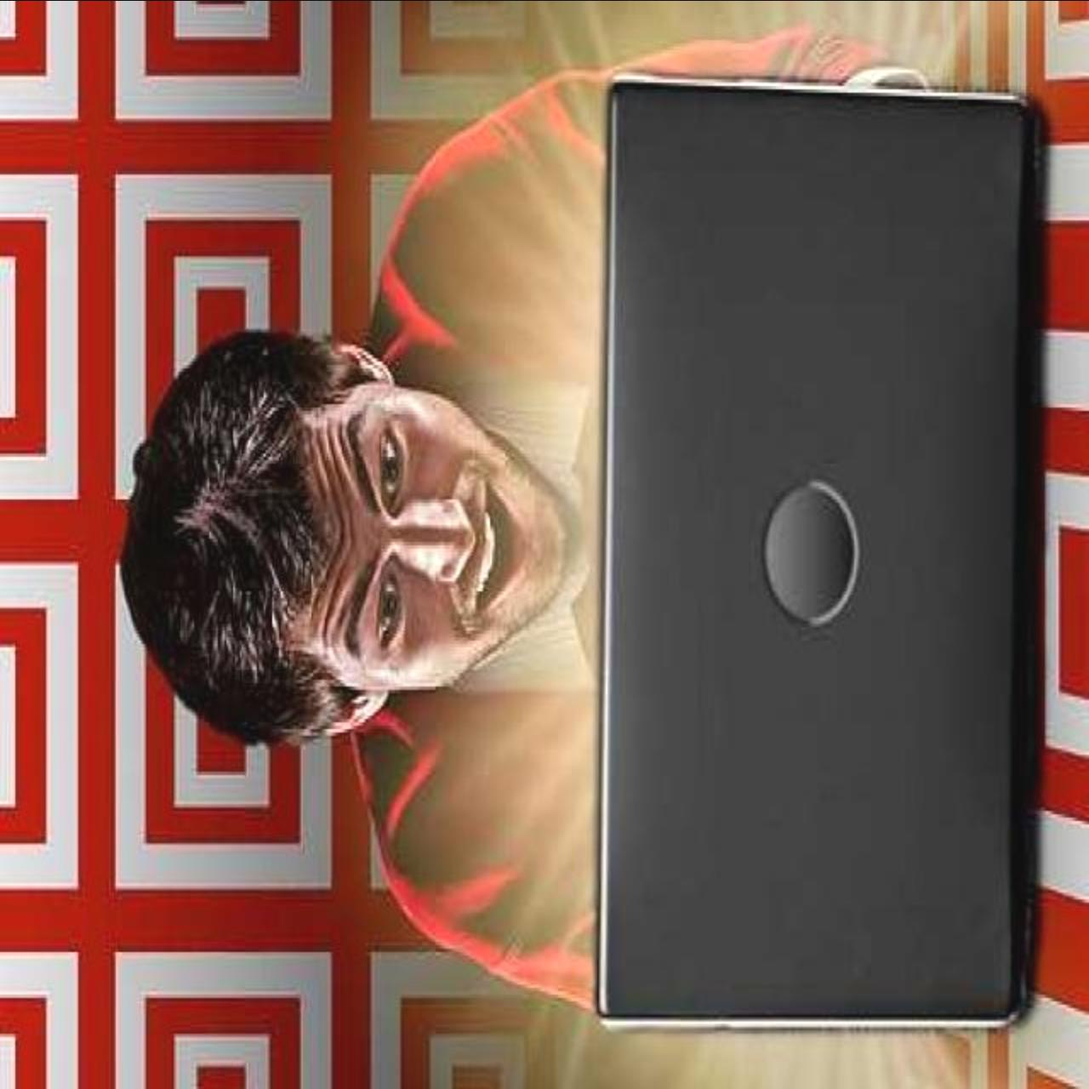laptop: (596, 80, 1052, 1029)
